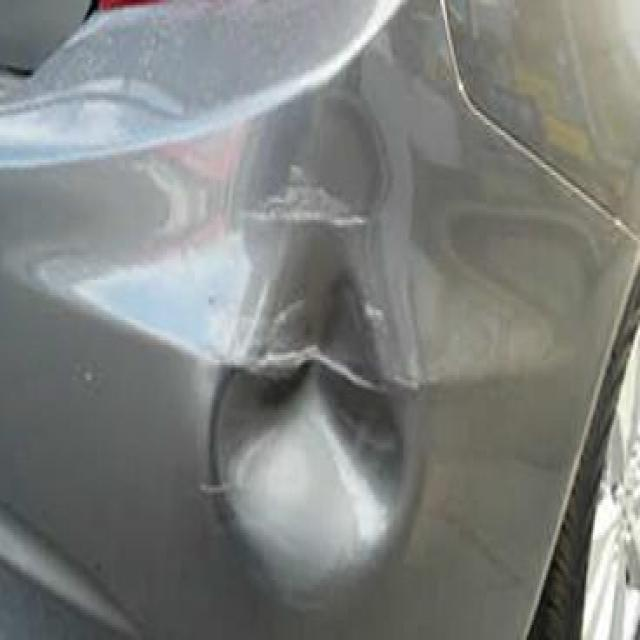dent: (182, 218, 424, 622)
